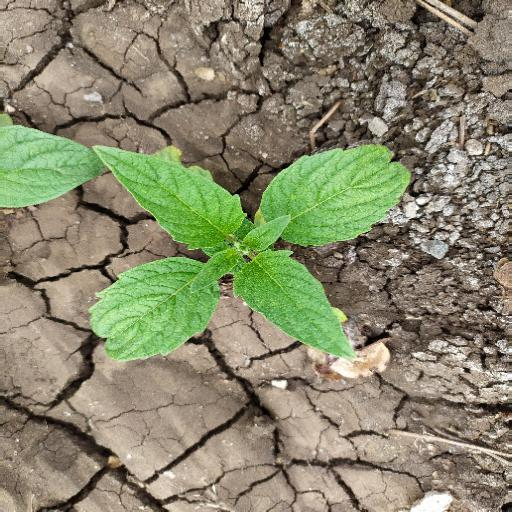crop: (93, 132, 429, 385)
